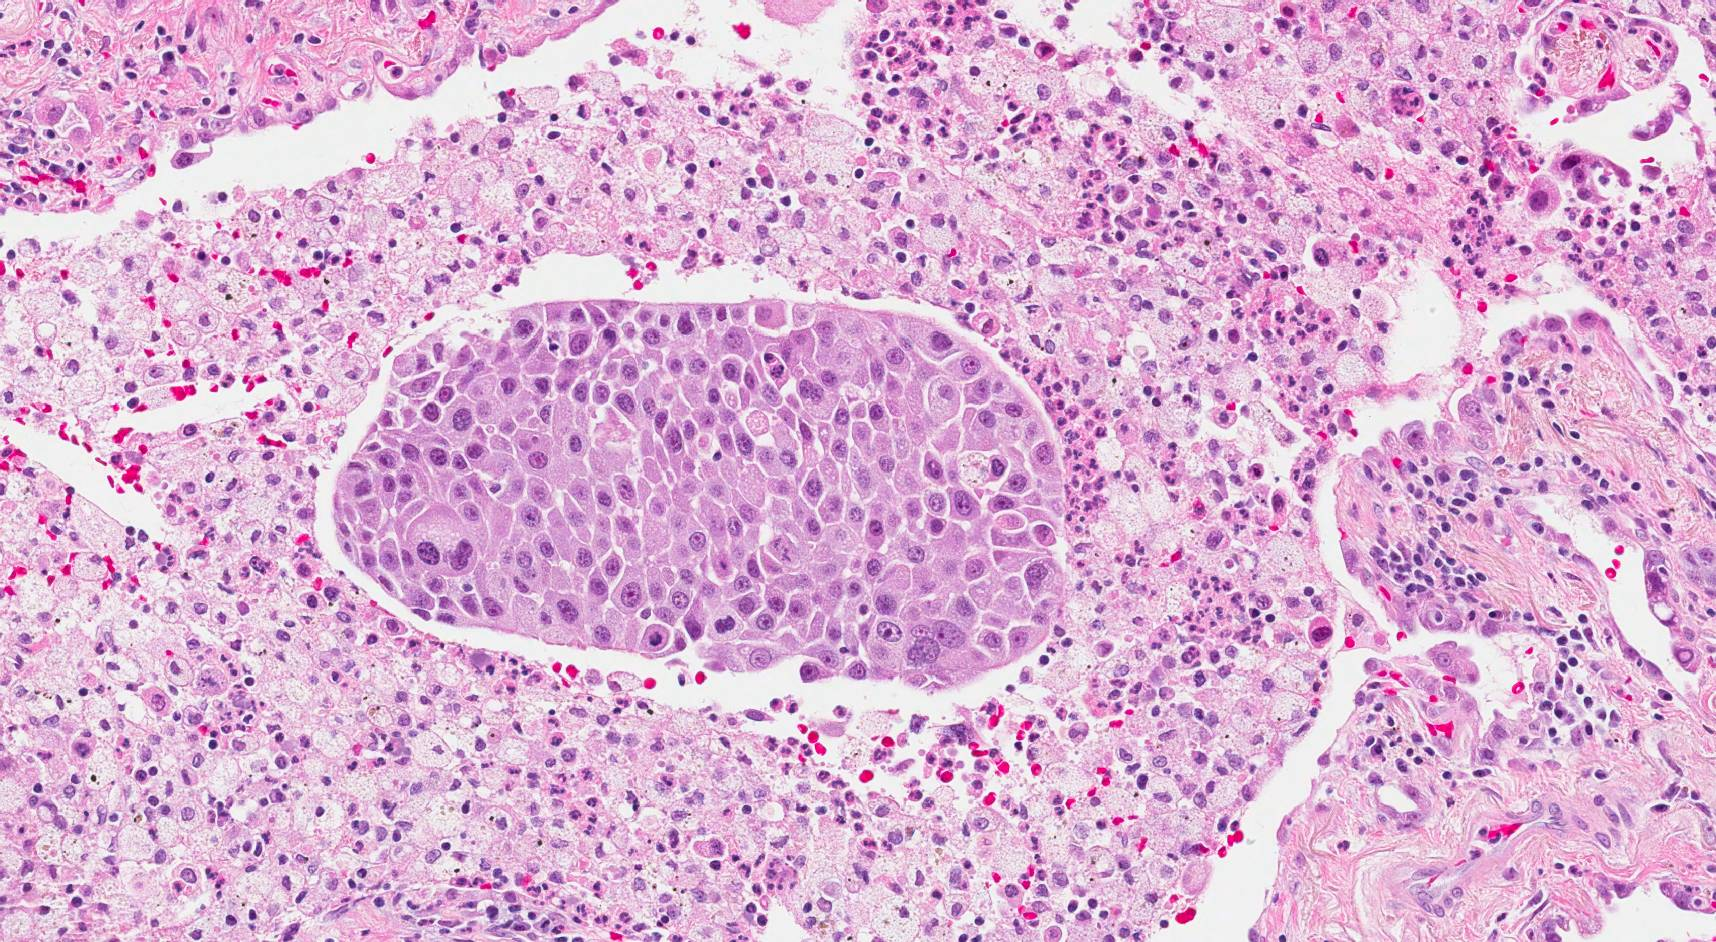stas: (330, 300, 1060, 683)
